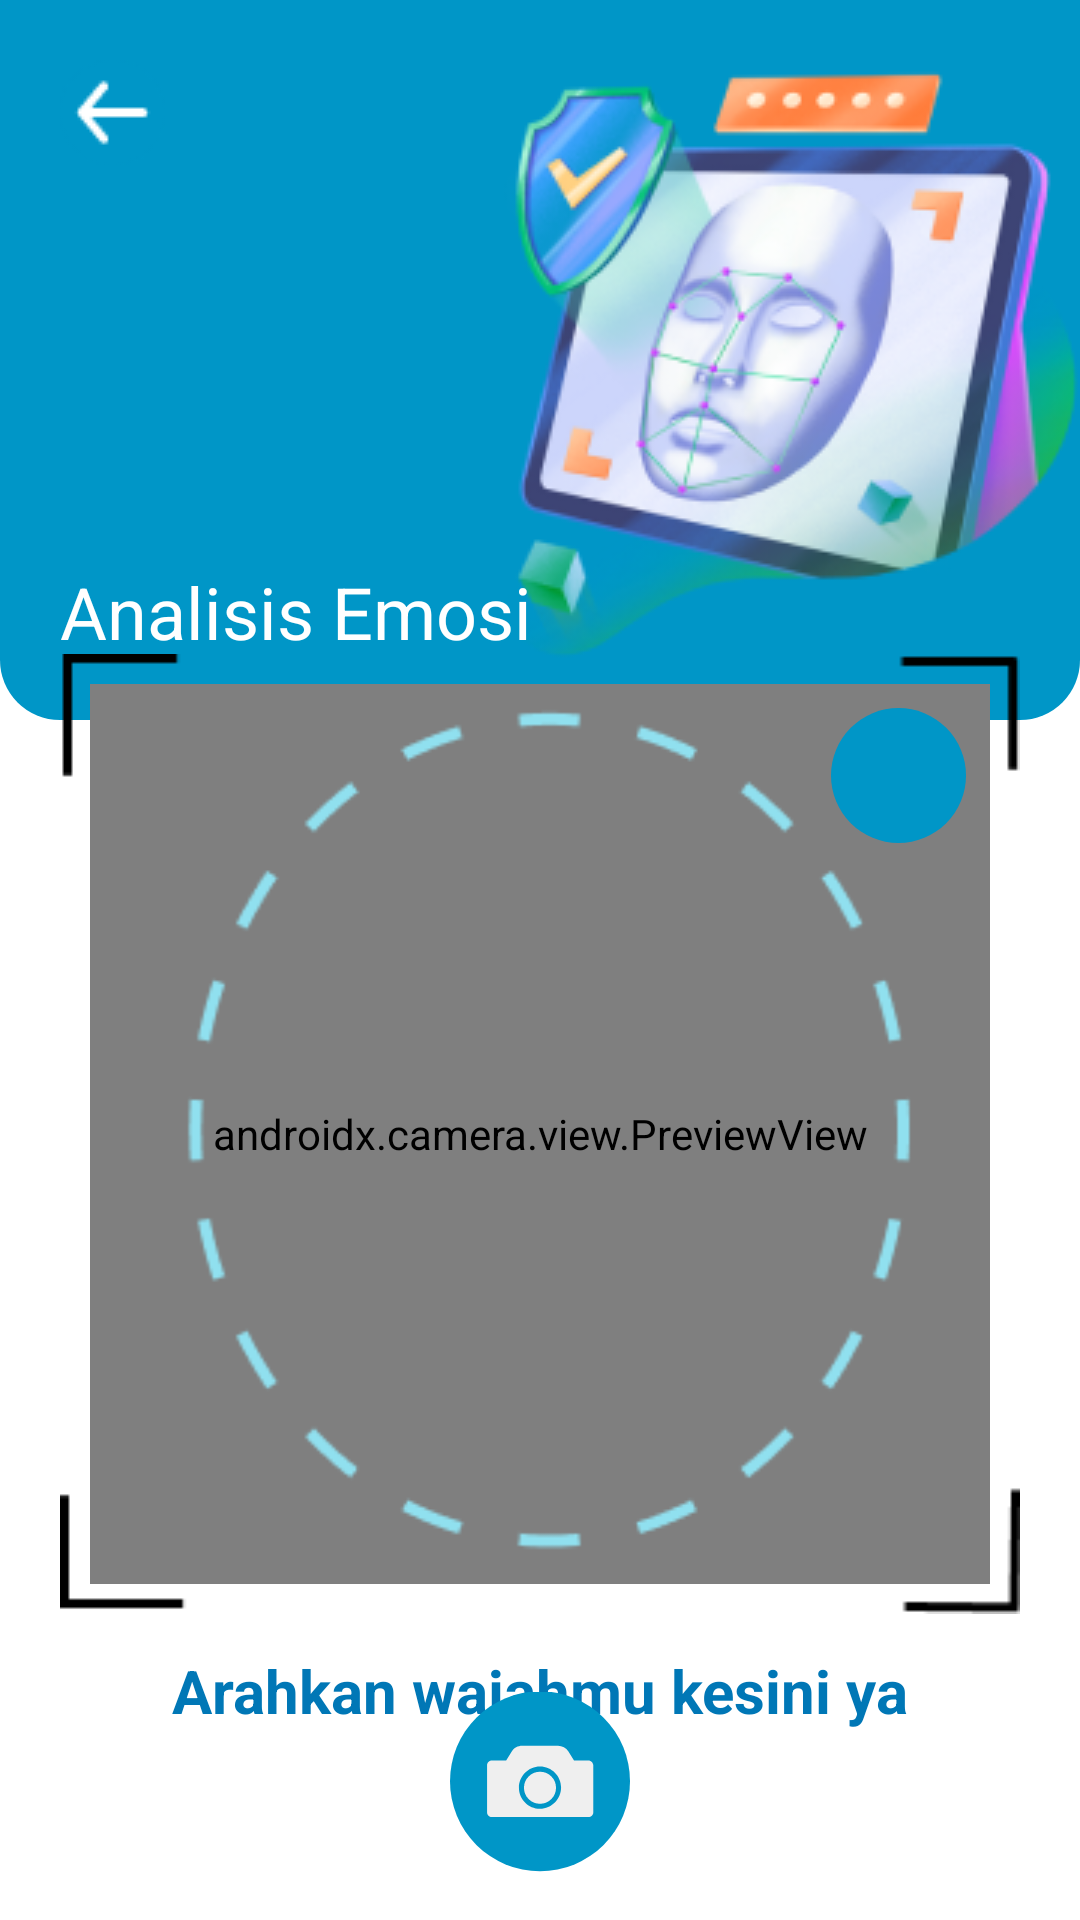

Icon bounding boxes for this 1080 × 1920 phone screenshot, format [x1,y1,x2,y2]:
arrow back: [76,80,149,145]
capture: [450,1692,630,1872]
